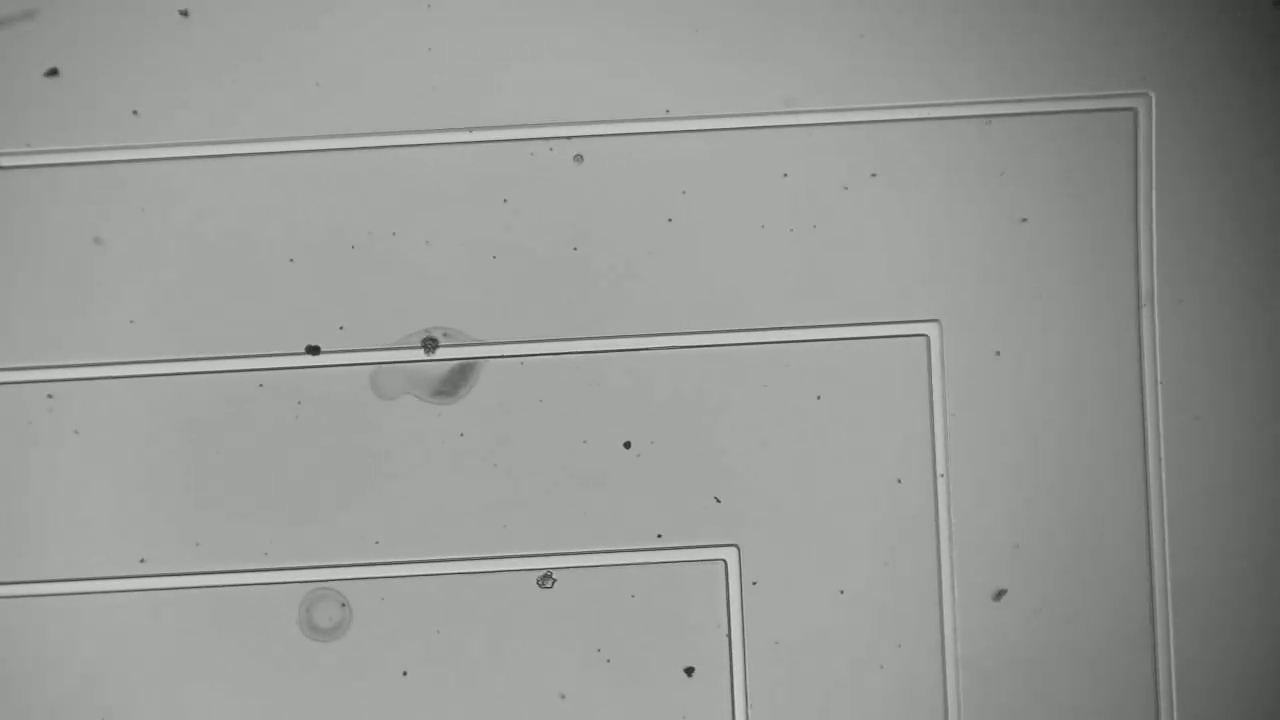stains_enbedded: (414, 325, 444, 369)
